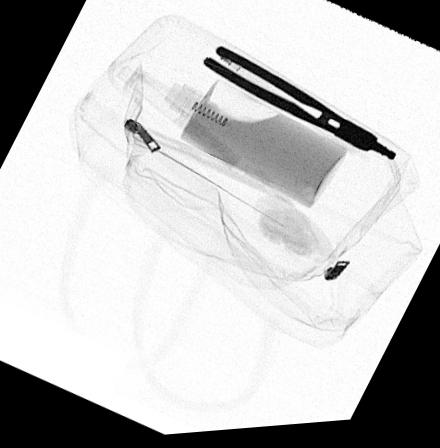Pliers: (204, 48, 400, 168)
